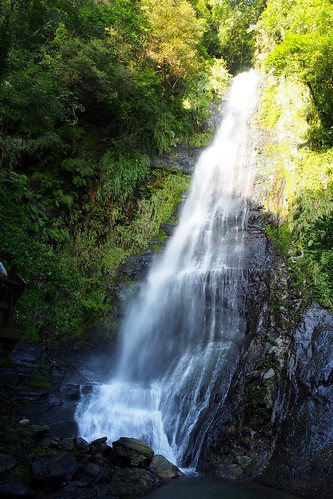wufengciWaterfall: (108, 53, 262, 461)
